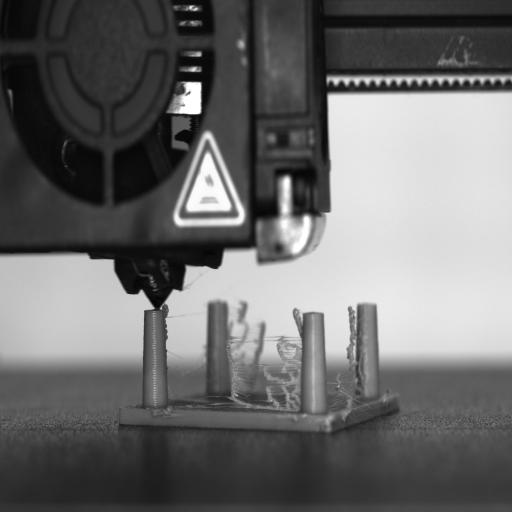spaghetti_and_stringing: (224, 306, 304, 410)
